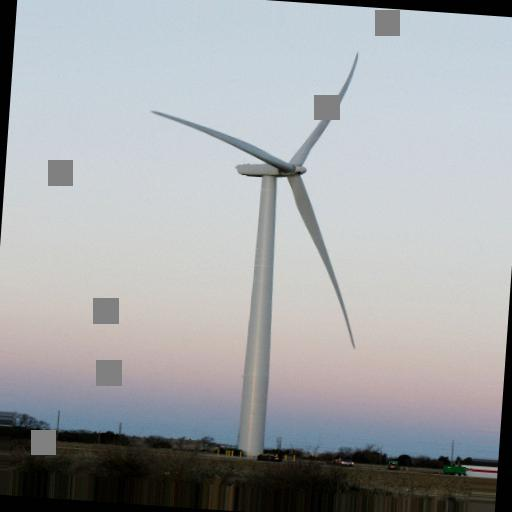wind turbine: (146, 51, 364, 448)
